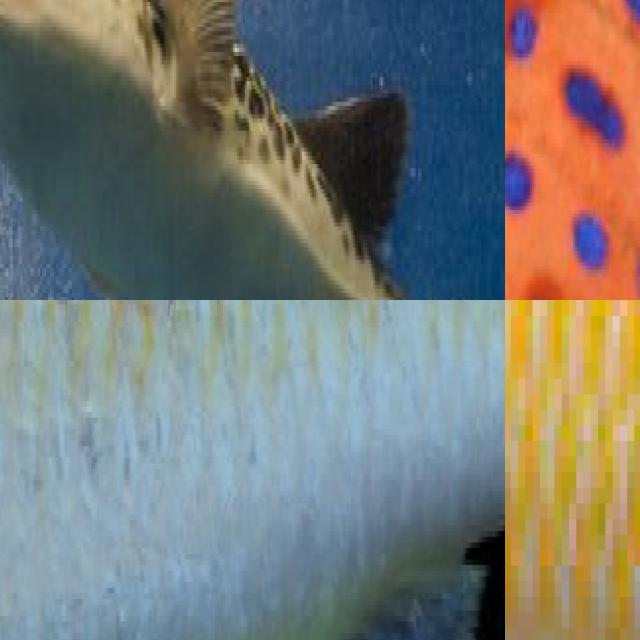fish: (0, 300, 505, 640), (0, 0, 505, 300), (505, 300, 640, 640), (505, 0, 640, 300)
